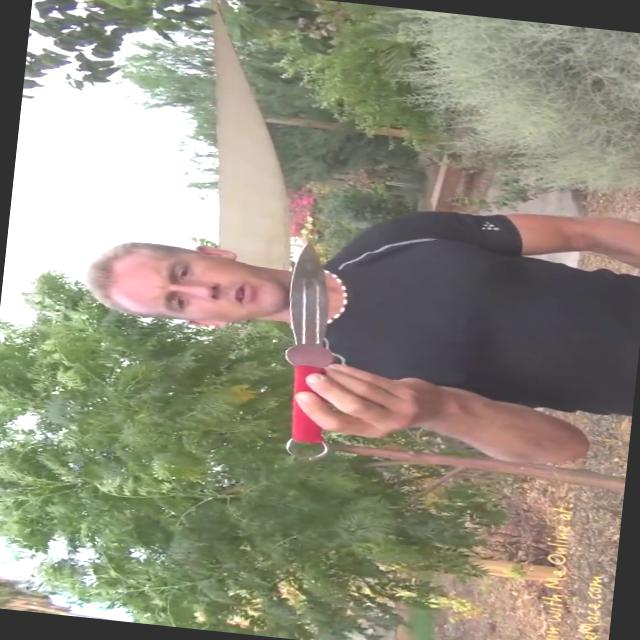knife: (238, 223, 380, 494)
